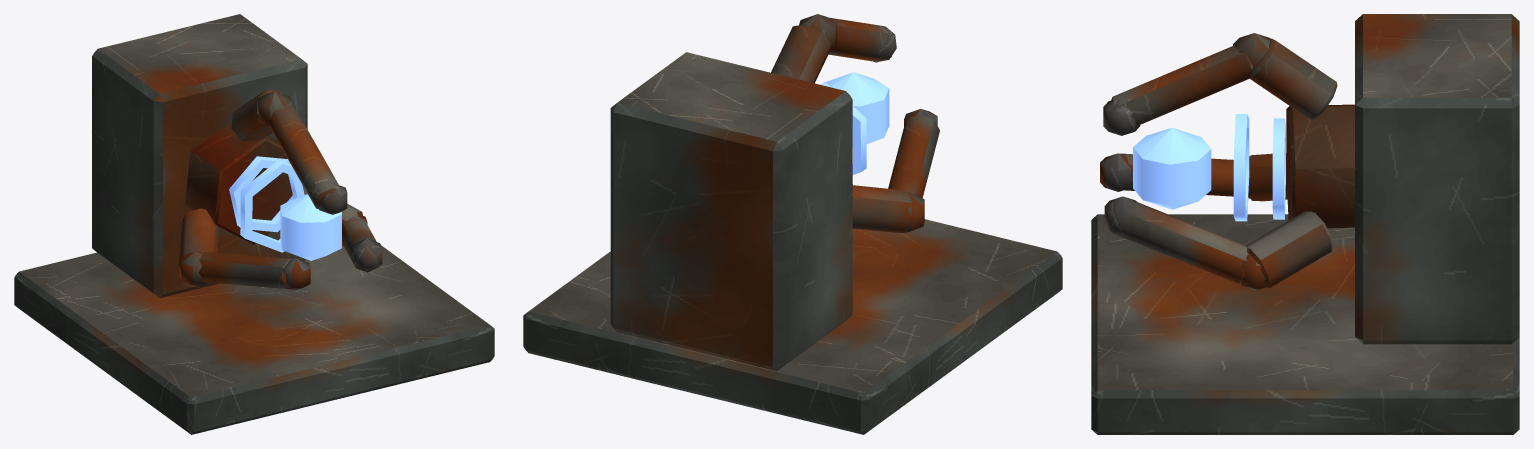
The model's file is R4X_DirectionalEMP_LOD1.glb.
3 views of the same model, side by side, from view 1: azimuth 30°, elevation 25°; view 2: azimuth 150°, elevation 25°; view 3: azimuth 270°, elevation 25° (orthographic). The views are drawn at different scales.
Parts seen in each view (by area): view 1: R4X_DirectionalEMP_LOD1; view 2: R4X_DirectionalEMP_LOD1; view 3: R4X_DirectionalEMP_LOD1.
Boxes of the visible parts, left/top/right/bottom form: R4X_DirectionalEMP_LOD1: left=14, top=14, right=494, bottom=434; R4X_DirectionalEMP_LOD1: left=523, top=14, right=1062, bottom=434; R4X_DirectionalEMP_LOD1: left=1091, top=14, right=1519, bottom=434.
Size of the model in its own units: 0.52 by 0.42 by 0.52.
5 materials, 4 textured.
